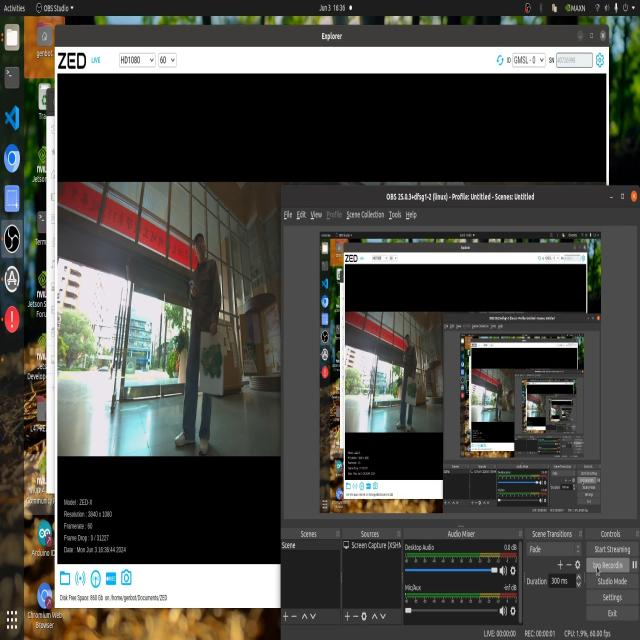green: (196, 342, 222, 379), (412, 379, 422, 409)
